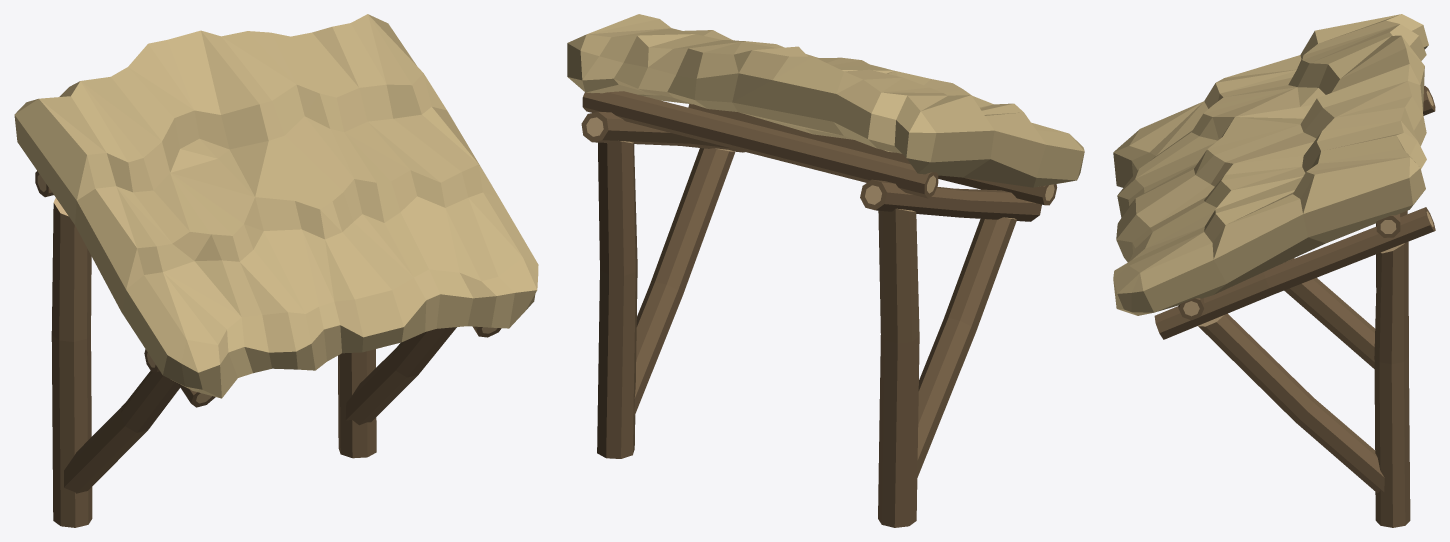
File: rpgpp_ag_awning_01b.fbx
3 renders of one model, left to right at view 1: azimuth 30°, elevation 25°; view 2: azimuth 150°, elevation 25°; view 3: azimuth 270°, elevation 25°, orthographic. The views are drawn at different scales.
Parts seen in each view (by area): view 1: rpgpp_ag_awning_01b; view 2: rpgpp_ag_awning_01b; view 3: rpgpp_ag_awning_01b.
Part boxes in pixels (bbox=[...]): rpgpp_ag_awning_01b: bbox=[14, 14, 538, 527]; rpgpp_ag_awning_01b: bbox=[567, 14, 1084, 527]; rpgpp_ag_awning_01b: bbox=[1113, 14, 1435, 527].
Size of the model in its own units: 2.66 by 3.07 by 2.26.
